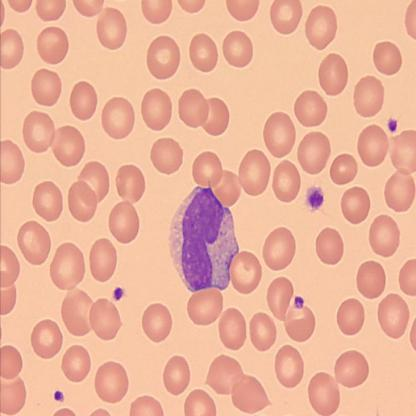Monocyte: (166, 180, 240, 294)
